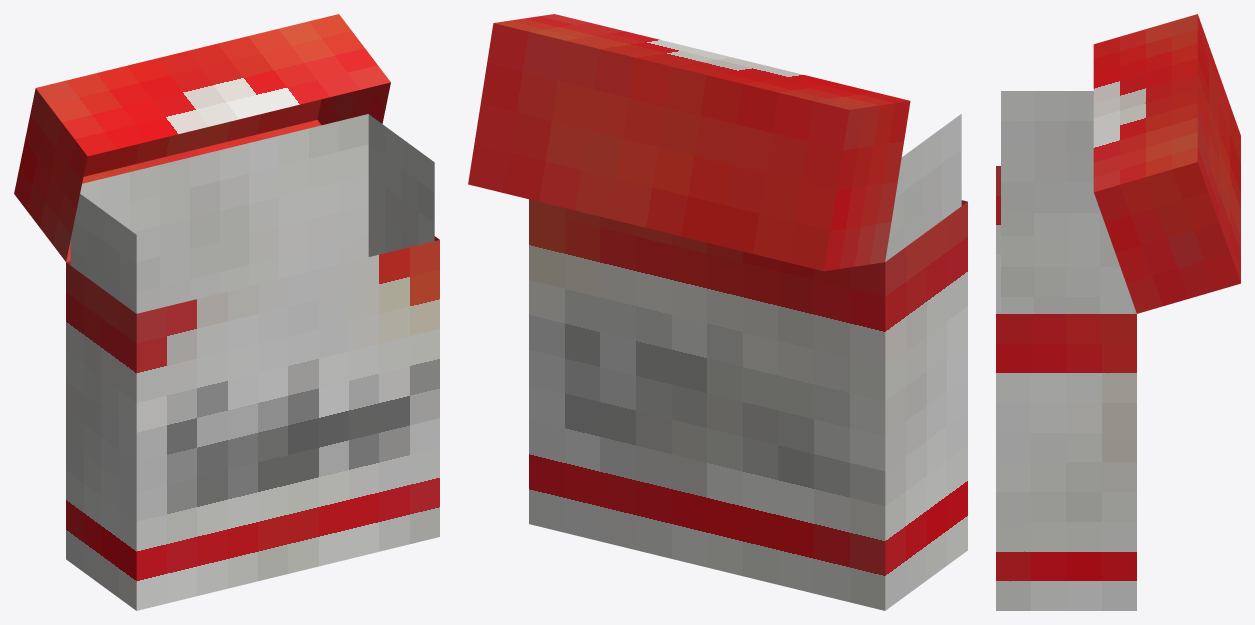
Rendered from CigaretteBox02.glb.
3 views of the same model, side by side, from view 1: azimuth 30°, elevation 25°; view 2: azimuth 150°, elevation 25°; view 3: azimuth 270°, elevation 25° (orthographic). The views are drawn at different scales.
Visible parts, largest first — view 1: CigaretteBox02; view 2: CigaretteBox02; view 3: CigaretteBox02.
Boxes of the visible parts, left/top/right/bottom form: CigaretteBox02: left=14, top=14, right=439, bottom=610; CigaretteBox02: left=468, top=14, right=967, bottom=610; CigaretteBox02: left=996, top=14, right=1240, bottom=610.
Bounding box in the file's own units: 0.1111 × 0.1572 × 0.0777.
1 material, 1 textured.
